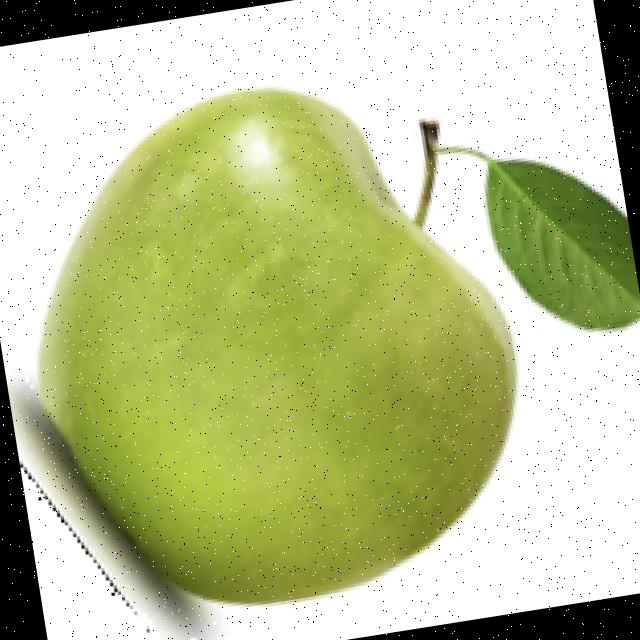apple: (9, 82, 640, 640)
